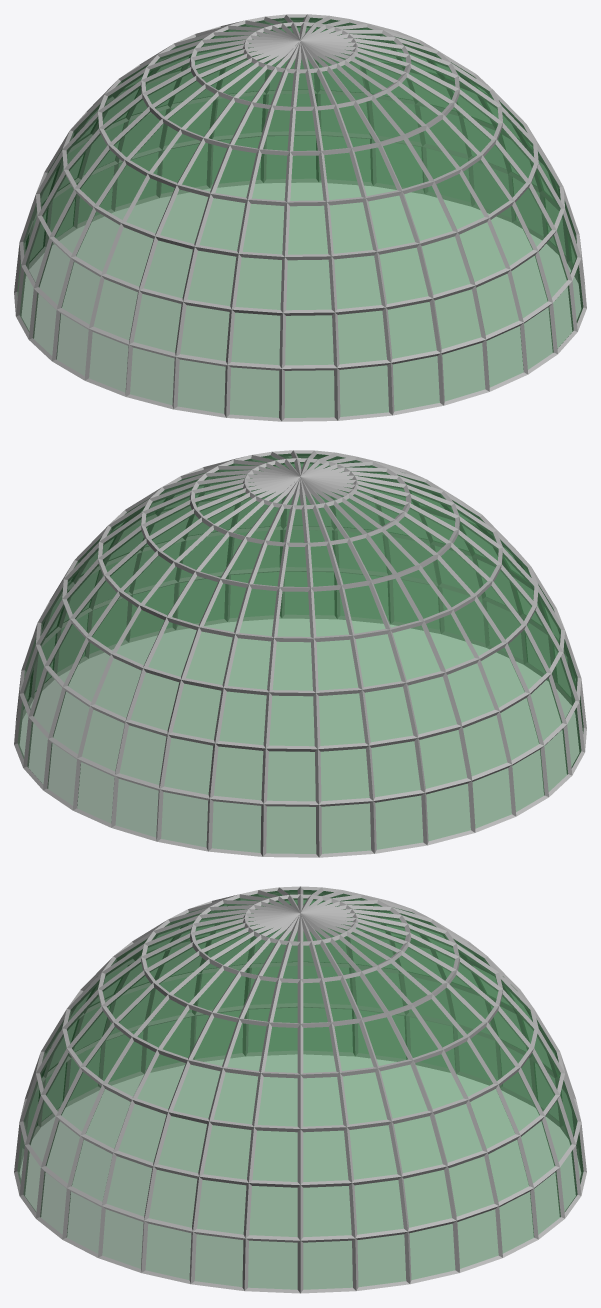
The model's file is dome.fbx.
3 renders of one model, top to bottom at view 1: azimuth 30°, elevation 25°; view 2: azimuth 150°, elevation 25°; view 3: azimuth 270°, elevation 25°, orthographic.
Visible parts, largest first — view 1: dome; view 2: dome; view 3: dome.
Boxes of the visible parts, box(x1,y1,x2,y2) form: dome: box(14, 14, 586, 421); dome: box(14, 450, 586, 857); dome: box(14, 886, 586, 1293).
Size of the model in its own units: 3907 by 1955 by 3907.
